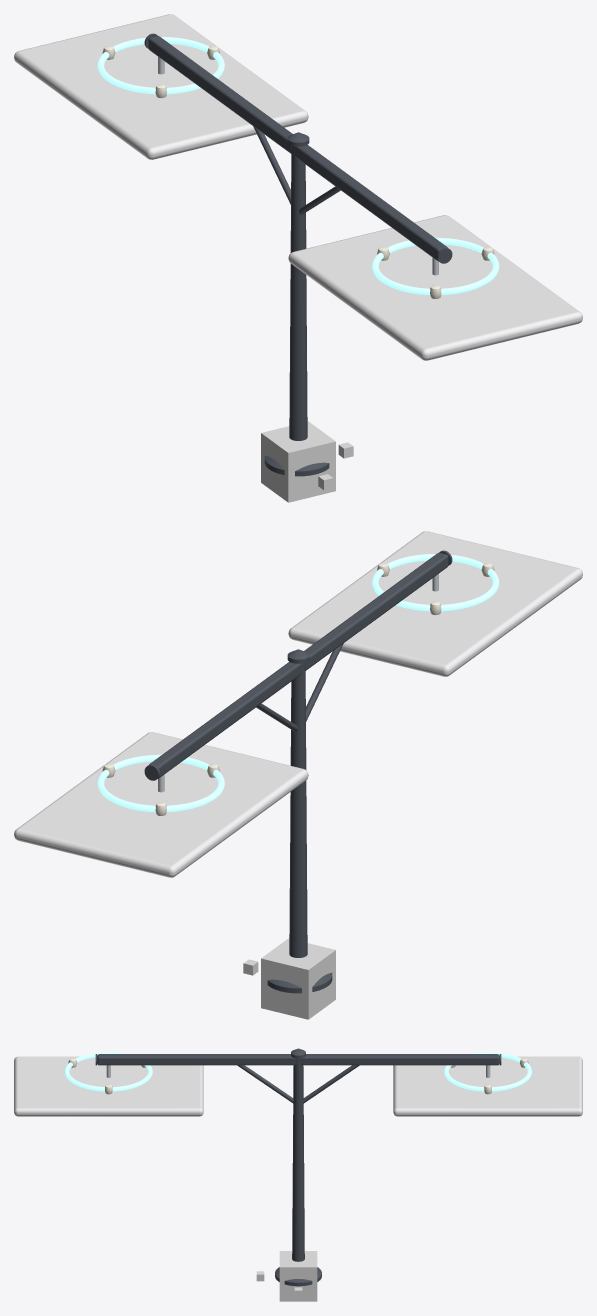
The model's file is LampQuantum.fbx.
3 views of the same model, one above another, from view 1: azimuth 30°, elevation 25°; view 2: azimuth 150°, elevation 25°; view 3: azimuth 270°, elevation 25° (orthographic). The views are drawn at different scales.
Parts seen in each view (by area): view 1: Body__White, Body__MetalDark, Origin__Pivot, Ring-1__NeonCyan, Ring1__NeonCyan; view 2: Body__White, Body__MetalDark, Origin__Pivot, Ring1__NeonCyan, Ring-1__NeonCyan; view 3: Body__White, Body__MetalDark, Origin__Pivot, Ring-1__NeonCyan, Ring1__NeonCyan.
Boxes of the visible parts, left/top/right/bottom form: Body__White: left=14, top=14, right=582, bottom=360; Body__MetalDark: left=144, top=33, right=452, bottom=476; Origin__Pivot: left=261, top=421, right=335, bottom=502; Ring-1__NeonCyan: left=372, top=237, right=499, bottom=295; Ring1__NeonCyan: left=97, top=37, right=224, bottom=94; Body__White: left=14, top=531, right=582, bottom=877; Body__MetalDark: left=144, top=550, right=452, bottom=993; Origin__Pivot: left=261, top=938, right=335, bottom=1019; Ring1__NeonCyan: left=97, top=754, right=224, bottom=812; Ring-1__NeonCyan: left=372, top=554, right=499, bottom=611; Body__White: left=14, top=1056, right=582, bottom=1116; Body__MetalDark: left=95, top=1048, right=501, bottom=1286; Origin__Pivot: left=279, top=1251, right=317, bottom=1301; Ring-1__NeonCyan: left=65, top=1052, right=152, bottom=1091; Ring1__NeonCyan: left=444, top=1052, right=531, bottom=1091.
Size of the model in its own units: 3.4 by 7.13 by 15.
